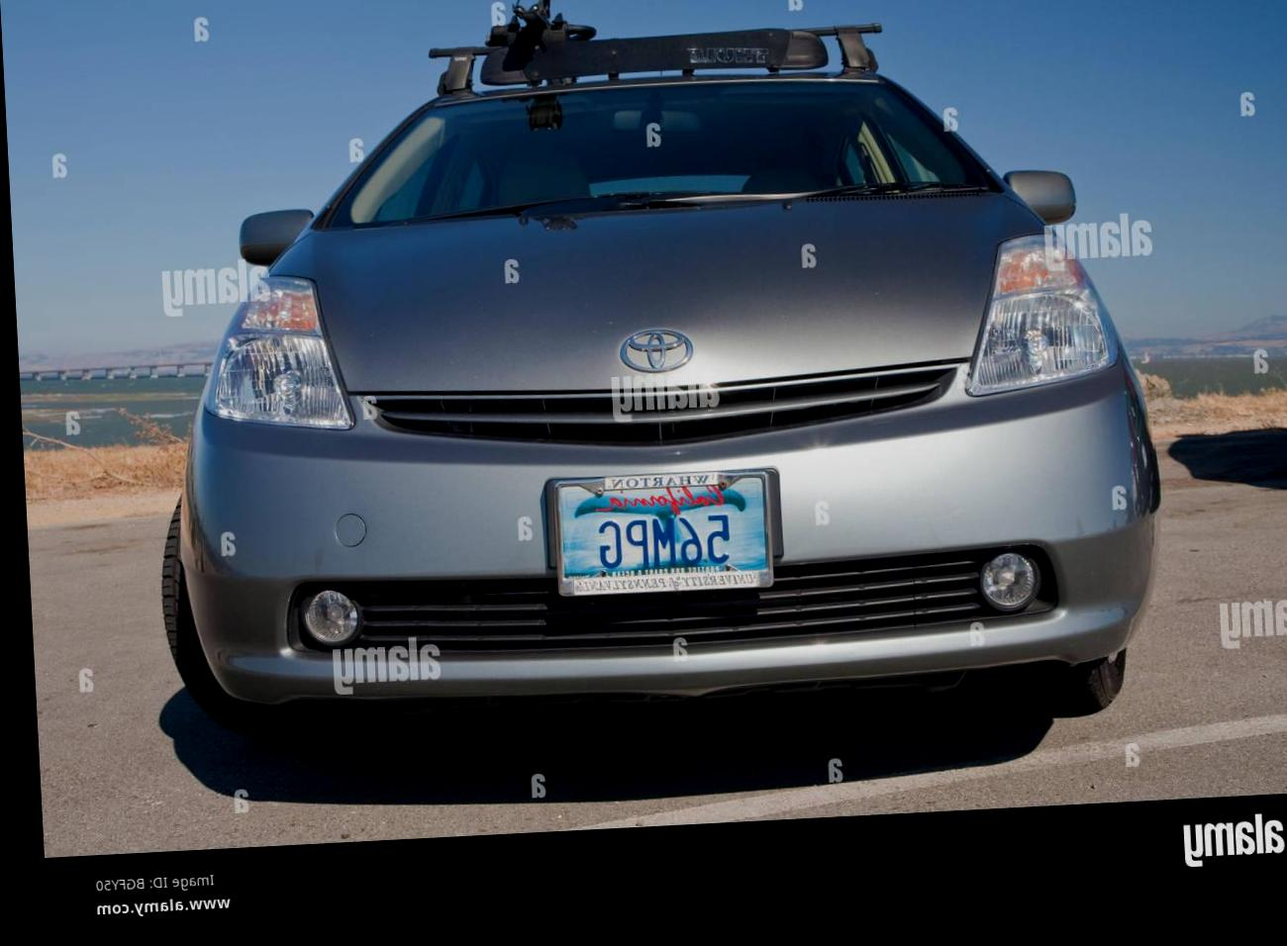License_Plate: (530, 459, 785, 614)
